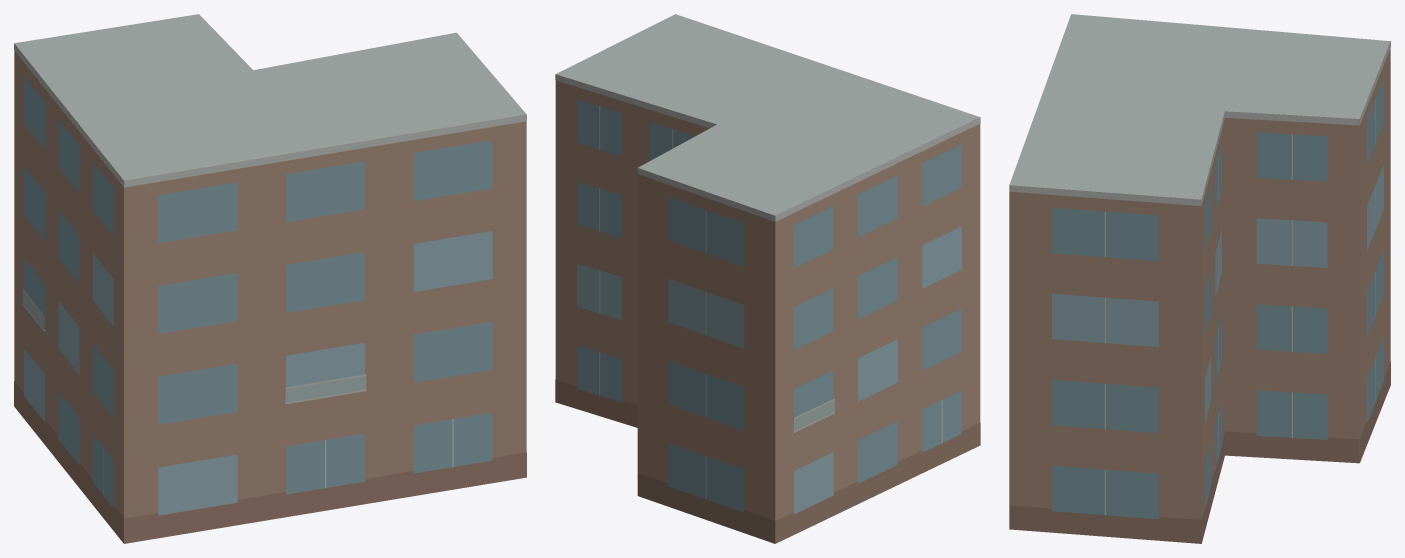
The model's file is survey-upis-32735209.glb.
3 views of the same model, side by side, from view 1: azimuth 30°, elevation 25°; view 2: azimuth 150°, elevation 25°; view 3: azimuth 270°, elevation 25° (orthographic). The views are drawn at different scales.
Parts seen in each view (by area): view 1: survey-upis-32735209.tmp; view 2: survey-upis-32735209.tmp; view 3: survey-upis-32735209.tmp.
Boxes of the visible parts, x1,y1,x2,y2 form: survey-upis-32735209.tmp: (14,14,526,543); survey-upis-32735209.tmp: (555,14,980,543); survey-upis-32735209.tmp: (1009,14,1390,543).
Size of the model in its own units: 15.05 by 13 by 13.07.
